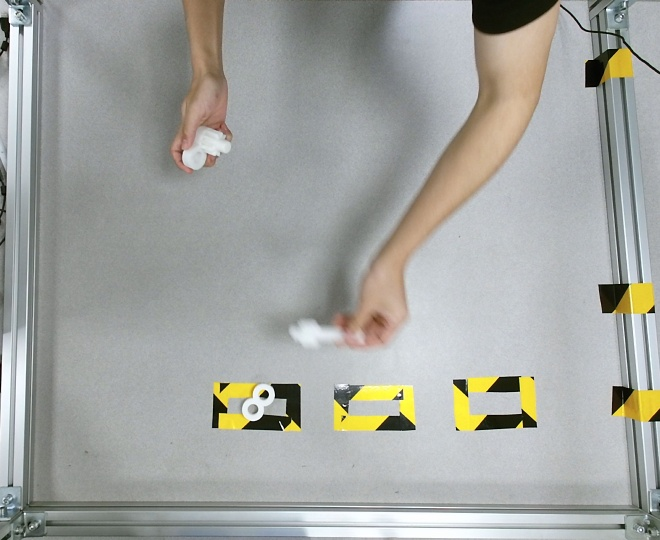stage_2: (181, 126, 231, 170)
